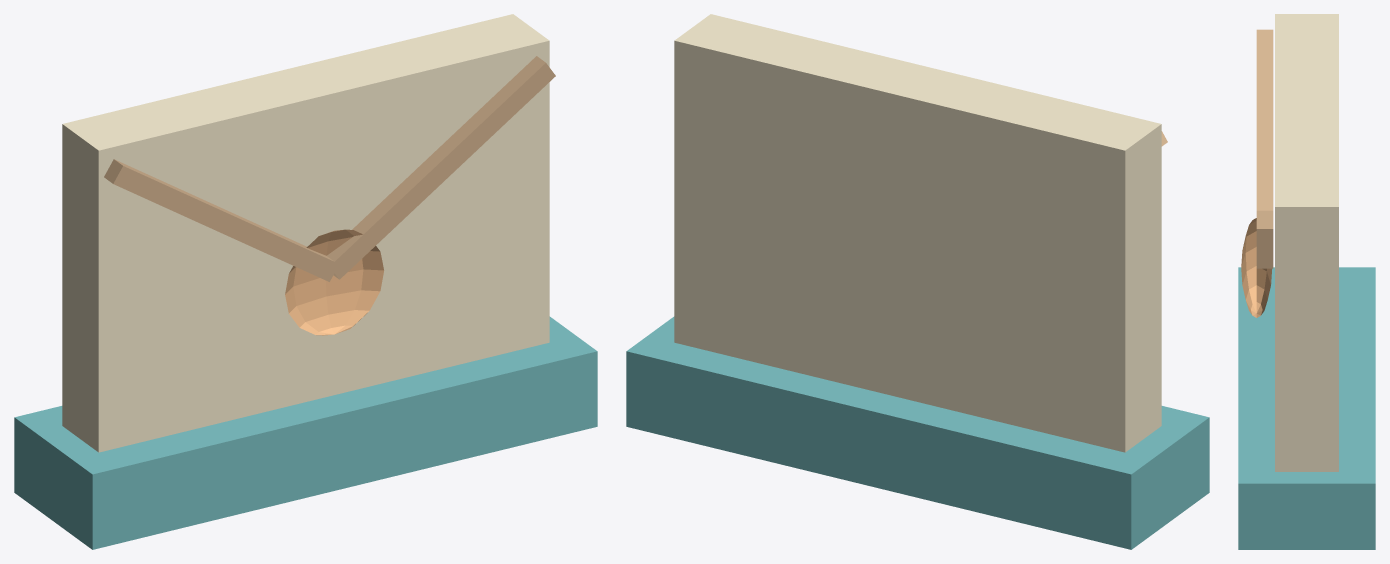
File: meadow-courier-envelope-quest-token__46.glb
3 views of the same model, side by side, from view 1: azimuth 30°, elevation 25°; view 2: azimuth 150°, elevation 25°; view 3: azimuth 270°, elevation 25° (orthographic). The views are drawn at different scales.
Parts seen in each view (by area): view 1: meadow-courier-envelope-token; view 2: meadow-courier-envelope-token; view 3: meadow-courier-envelope-token.
Part boxes in pixels (box(x1,y1,x2,y2)): meadow-courier-envelope-token: box(14, 14, 597, 549); meadow-courier-envelope-token: box(626, 14, 1209, 549); meadow-courier-envelope-token: box(1238, 14, 1375, 549).
Bounding box in the file's own units: 0.56 × 0.4 × 0.15.
